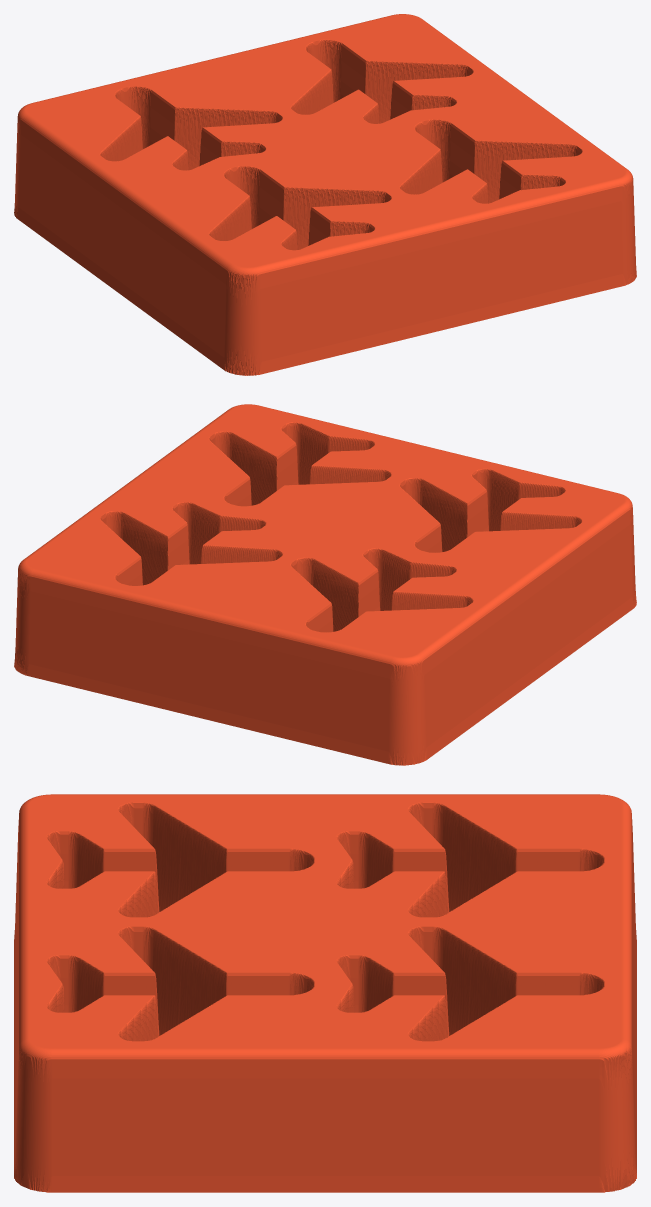
The model's file is mold.glb.
3 views of the same model, one above another, from view 1: azimuth 30°, elevation 25°; view 2: azimuth 150°, elevation 25°; view 3: azimuth 270°, elevation 25° (orthographic). The views are drawn at different scales.
Visible parts, largest first — view 1: geometry_0; view 2: geometry_0; view 3: geometry_0.
Boxes of the visible parts, bbox=[...] form: geometry_0: bbox=[14, 14, 636, 375]; geometry_0: bbox=[14, 404, 636, 765]; geometry_0: bbox=[14, 794, 636, 1192].
Bounding box in the file's own units: 0.1493 × 0.036 × 0.1478.
